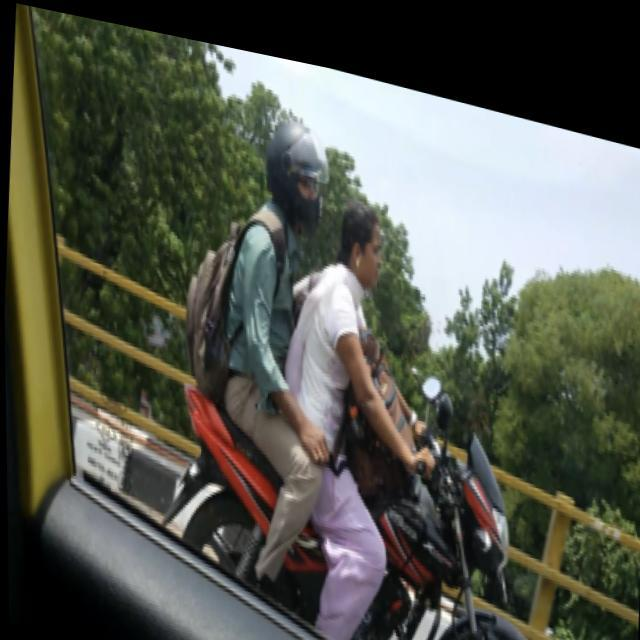Helmet: (253, 103, 332, 243)
Nonhelmet: (321, 200, 403, 291)
